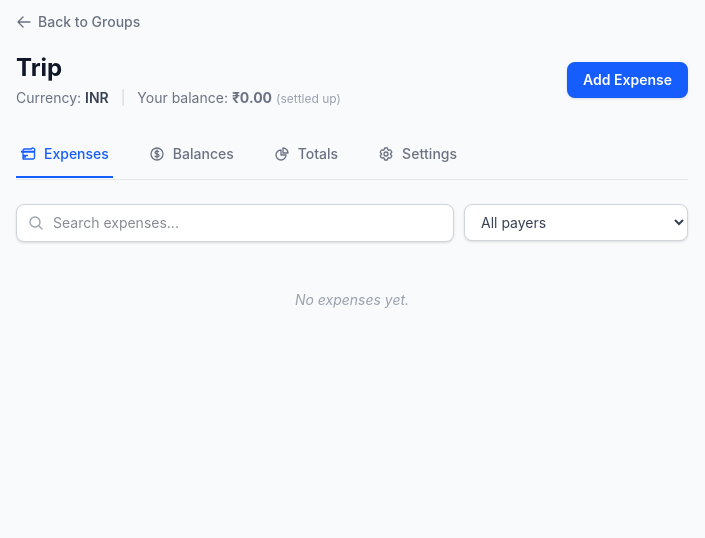
GroupDetailPage › shows 'No expenses match your search or filter.' and resets filters when Clear filters is clicked
The width and height of the screenshot is (705, 538).
Expected: the heading "Trip" is shown, [16, 53, 62, 82]
Type "Nonexistent" into the field with placeholder "Search expenses..." at (235, 223), box [16, 204, 454, 242]
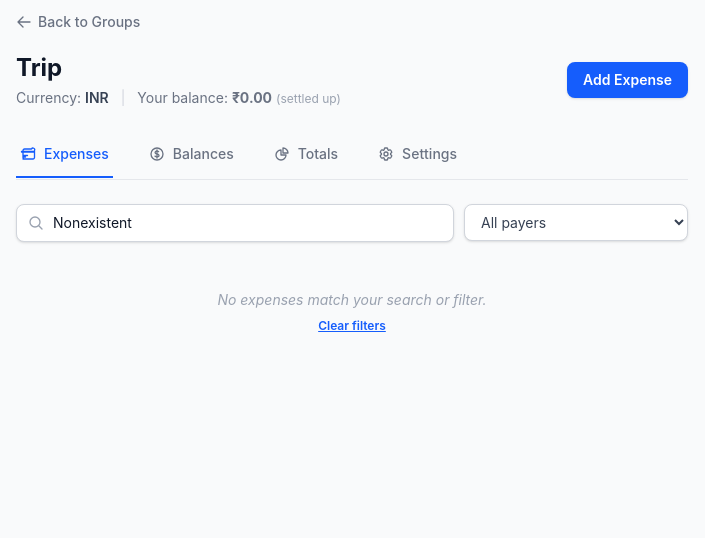
Expected: the text "No expenses match your search or filter." is shown, [218, 291, 487, 308]
Click the button "Clear filters" at (352, 326), box [318, 318, 386, 334]
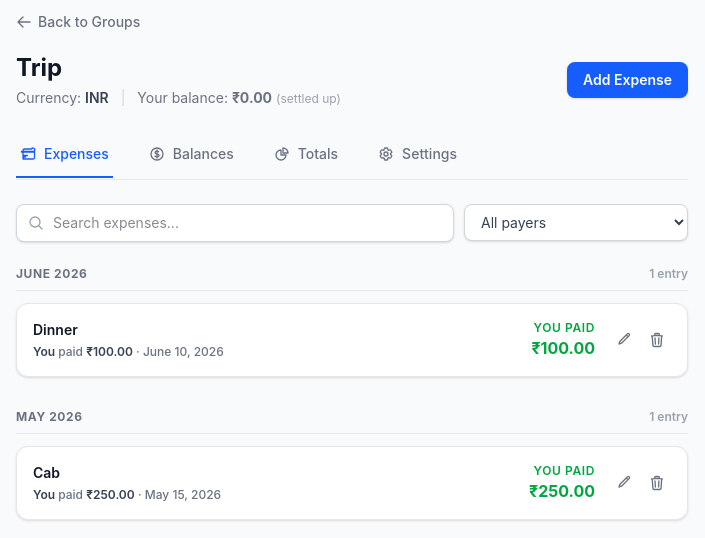
Expected: the field with placeholder "Search expenses..." is empty, [16, 204, 454, 242]
